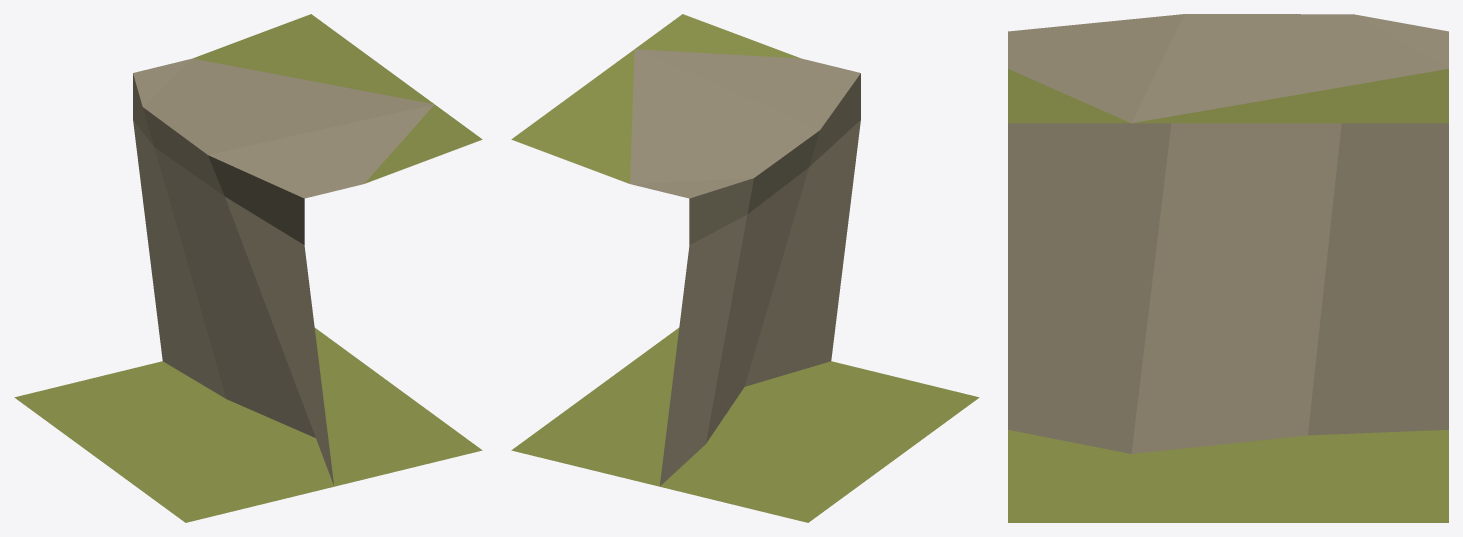
The model's file is forest_cliff01.glb.
3 renders of one model, left to right at view 1: azimuth 30°, elevation 25°; view 2: azimuth 150°, elevation 25°; view 3: azimuth 270°, elevation 25°, orthographic. The views are drawn at different scales.
Parts seen in each view (by area): view 1: forest_cliff01-col.001, forest_cliff01-col; view 2: forest_cliff01-col.001, forest_cliff01-col; view 3: forest_cliff01-col.001, forest_cliff01-col.
Boxes of the visible parts, x1=… form: forest_cliff01-col.001: x1=133, y1=14, x2=482, y2=485; forest_cliff01-col: x1=14, y1=328, x2=482, y2=522; forest_cliff01-col.001: x1=511, y1=14, x2=860, y2=486; forest_cliff01-col: x1=511, y1=328, x2=979, y2=522; forest_cliff01-col.001: x1=1008, y1=14, x2=1448, y2=453; forest_cliff01-col: x1=1008, y1=429, x2=1448, y2=522.
Bounding box in the file's own units: 10 × 10 × 10.
